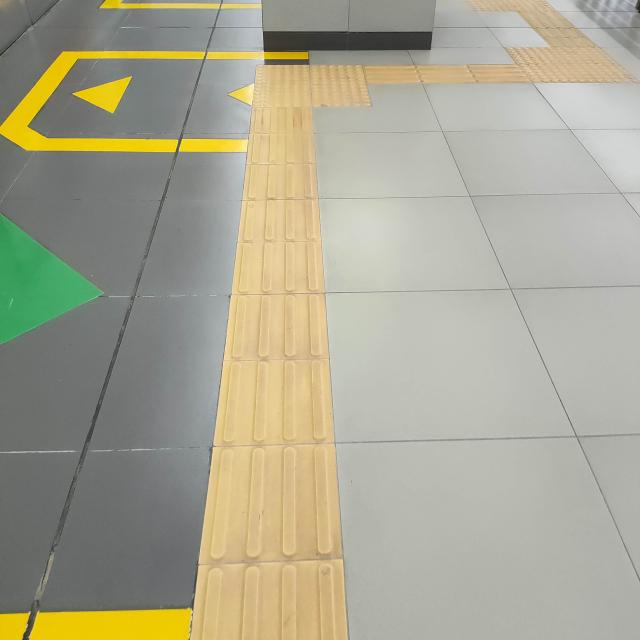kanan: (230, 52, 465, 117)
